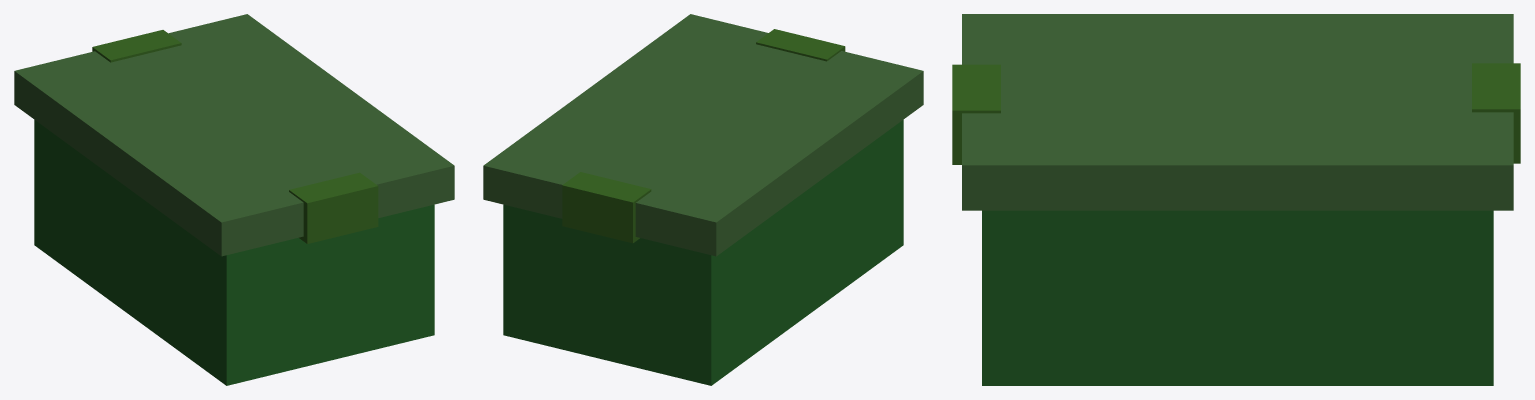
The model's file is Caixa3.fbx.
The picture shows the model from 3 angles, left to right: view 1: azimuth 30°, elevation 25°; view 2: azimuth 150°, elevation 25°; view 3: azimuth 270°, elevation 25°; orthographic projection. The views are drawn at different scales.
Visible parts, largest first — view 1: Cube.001, Cube, Cube.002, Cube.003; view 2: Cube.001, Cube, Cube.003, Cube.002; view 3: Cube.001, Cube, Cube.002, Cube.003.
Part boxes in pixels (<box>): Cube.001: <box>14,14,454,256</box>; Cube: <box>34,120,434,385</box>; Cube.002: <box>289,172,378,243</box>; Cube.003: <box>92,30,181,62</box>; Cube.001: <box>483,14,923,256</box>; Cube: <box>503,120,903,385</box>; Cube.003: <box>562,172,651,243</box>; Cube.002: <box>756,29,845,61</box>; Cube.001: <box>962,14,1513,210</box>; Cube: <box>982,210,1493,385</box>; Cube.002: <box>952,64,1000,164</box>; Cube.003: <box>1472,63,1520,163</box>.
Bounding box in the file's own units: 236 × 169 × 375.
